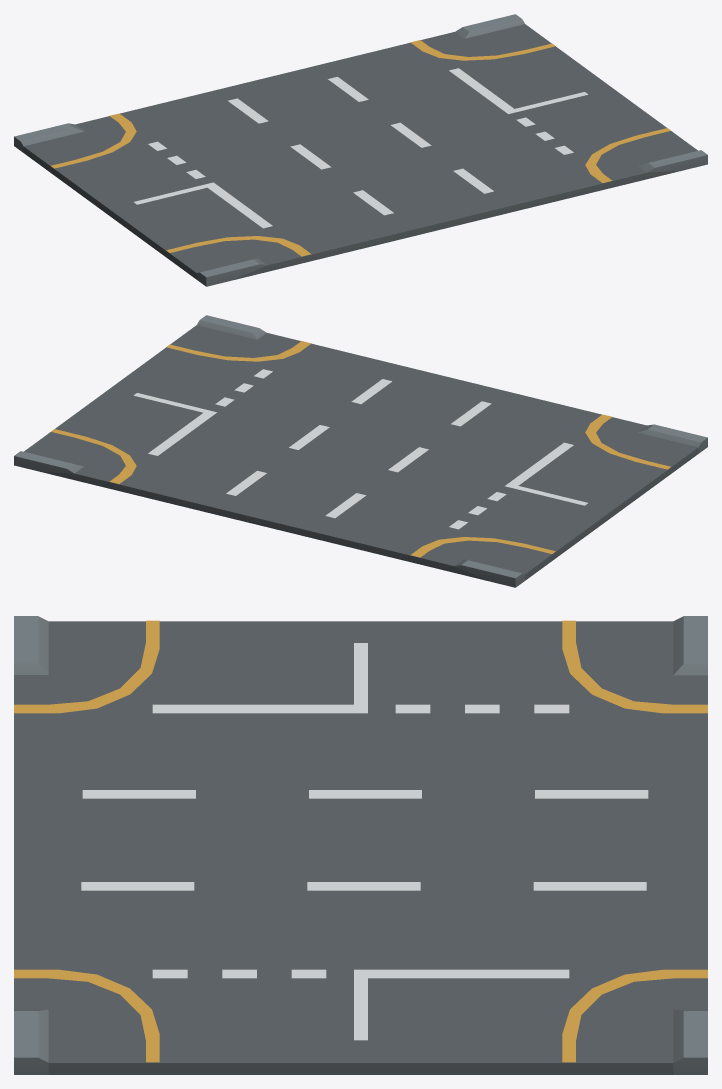
Rendered from CarreteraIntersect.glb.
3 views of the same model, one above another, from view 1: azimuth 30°, elevation 25°; view 2: azimuth 150°, elevation 25°; view 3: azimuth 270°, elevation 25° (orthographic). The views are drawn at different scales.
Visible parts, largest first — view 1: road_junction_Cube.949; view 2: road_junction_Cube.949; view 3: road_junction_Cube.949.
Boxes of the visible parts, x1=… form: road_junction_Cube.949: x1=14, y1=14, x2=707, y2=286; road_junction_Cube.949: x1=14, y1=315, x2=707, y2=587; road_junction_Cube.949: x1=14, y1=616, x2=707, y2=1074.
Bounding box in the file's own units: 5.52 × 0.1 × 3.66.
Materials: 1 (1 with a texture image).
